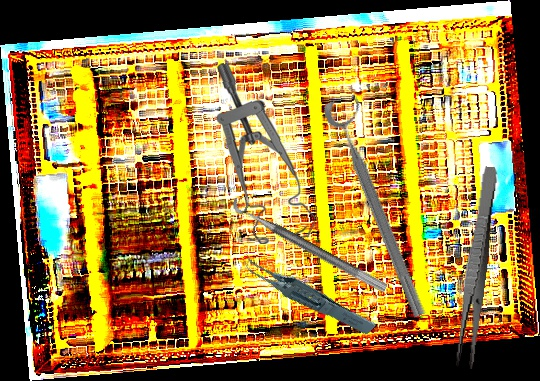Dressing Forceps: (453, 165, 500, 370)
Fixation Ring: (321, 91, 444, 321), (229, 186, 396, 294)
Speculum: (210, 63, 321, 246)
Tissue Forceps: (239, 227, 377, 359)
